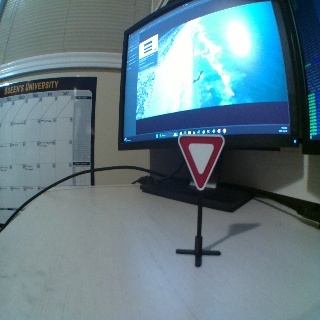sign_yield: (175, 133, 224, 189)
